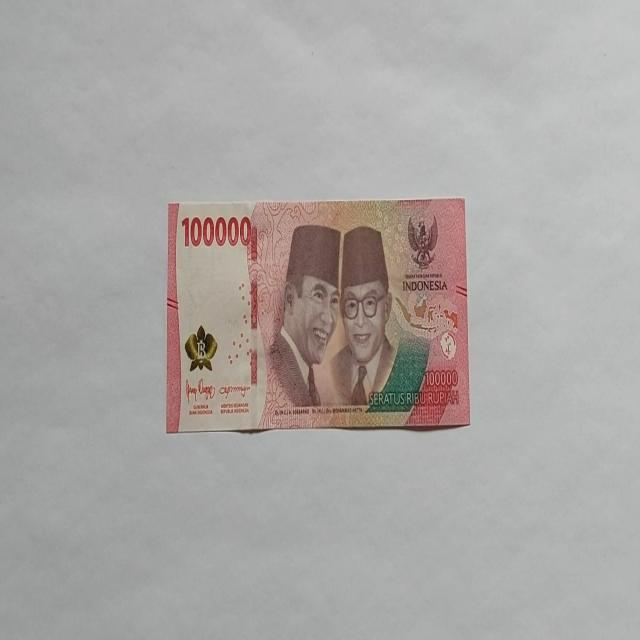seratus ribu rupiah: (166, 197, 470, 434)
